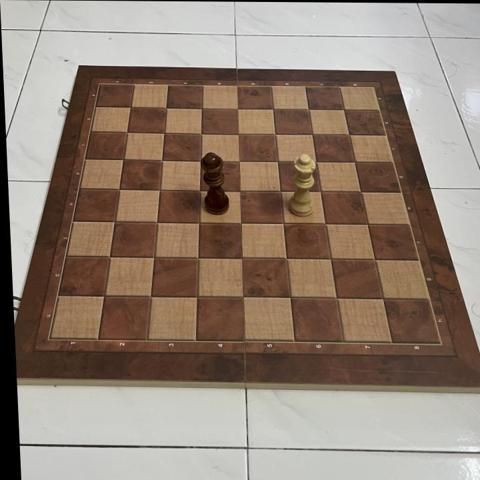xcorner: (277, 250, 294, 267), (300, 101, 316, 118), (158, 100, 174, 117), (303, 127, 320, 143), (266, 126, 283, 142), (230, 153, 247, 169), (115, 152, 132, 168), (312, 183, 328, 200), (271, 183, 288, 199), (231, 183, 248, 199), (191, 182, 207, 199), (232, 215, 249, 231), (321, 251, 338, 267), (146, 249, 162, 266), (189, 288, 205, 305), (335, 102, 351, 118), (264, 101, 280, 117), (229, 101, 245, 117), (193, 101, 209, 117), (123, 100, 139, 116), (340, 127, 356, 143), (230, 126, 246, 142), (193, 126, 209, 142), (156, 126, 172, 142), (119, 125, 135, 141), (346, 154, 362, 170), (307, 154, 323, 170), (269, 154, 285, 170), (192, 153, 208, 169), (154, 153, 170, 169), (352, 184, 368, 200), (151, 182, 167, 198), (111, 182, 127, 198), (358, 216, 374, 232), (316, 216, 332, 232), (274, 215, 290, 231), (191, 215, 207, 231), (149, 214, 165, 230), (107, 214, 123, 230), (365, 251, 381, 267), (234, 250, 250, 266), (190, 250, 206, 266), (102, 249, 118, 265), (373, 290, 389, 306), (327, 290, 343, 306), (281, 289, 297, 305), (235, 289, 251, 305), (143, 288, 159, 304), (97, 288, 113, 304)
